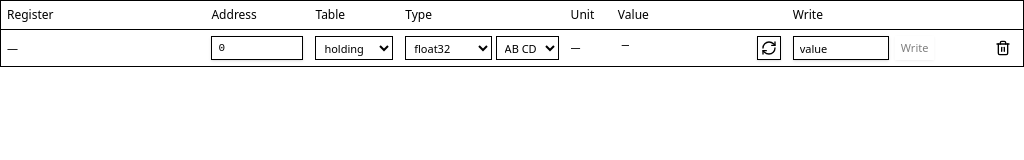
Test: RegisterTable raw rows › forces bool onto a bit table, and back to uint16 on the way out
Select "coil" in the dropdown named "Raw table" at [354, 48], box x1=315 y1=36 x2=393 y2=60
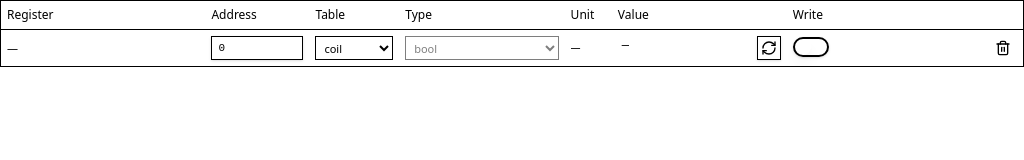
Result: the dropdown named "Raw datatype" shows "bool" at x1=405 y1=36 x2=559 y2=60
Result: the dropdown named "Raw datatype" is disabled at x1=405 y1=36 x2=559 y2=60
Select "holding" in the dropdown named "Raw table" at [354, 48], box x1=315 y1=36 x2=393 y2=60
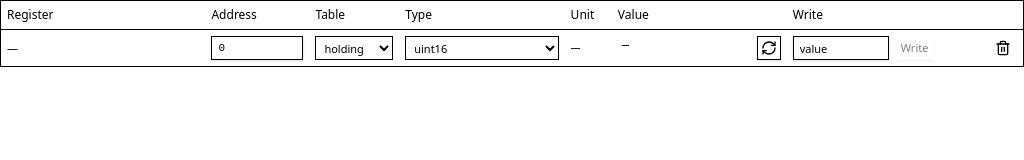
Result: the dropdown named "Raw datatype" is enabled at x1=405 y1=36 x2=559 y2=60
